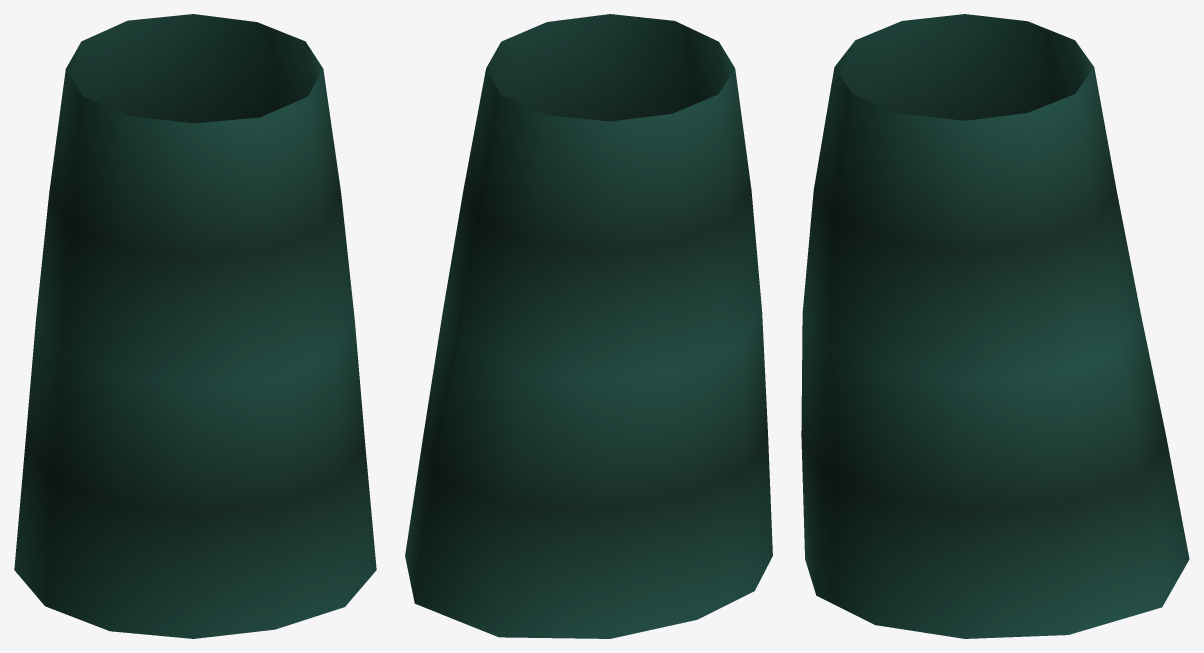
Rendered from vortex_armor_cuisse.L.glb.
3 views of the same model, side by side, from view 1: azimuth 30°, elevation 25°; view 2: azimuth 150°, elevation 25°; view 3: azimuth 270°, elevation 25° (orthographic). The views are drawn at different scales.
Visible parts, largest first — view 1: vortex_armor_cuisse.L; view 2: vortex_armor_cuisse.L; view 3: vortex_armor_cuisse.L.
Boxes of the visible parts, box(x1,y1,x2,y2) form: vortex_armor_cuisse.L: box(14, 14, 376, 638); vortex_armor_cuisse.L: box(405, 14, 772, 638); vortex_armor_cuisse.L: box(801, 14, 1189, 638).
Bounding box in the file's own units: 0.2432 × 0.37 × 0.2644.
